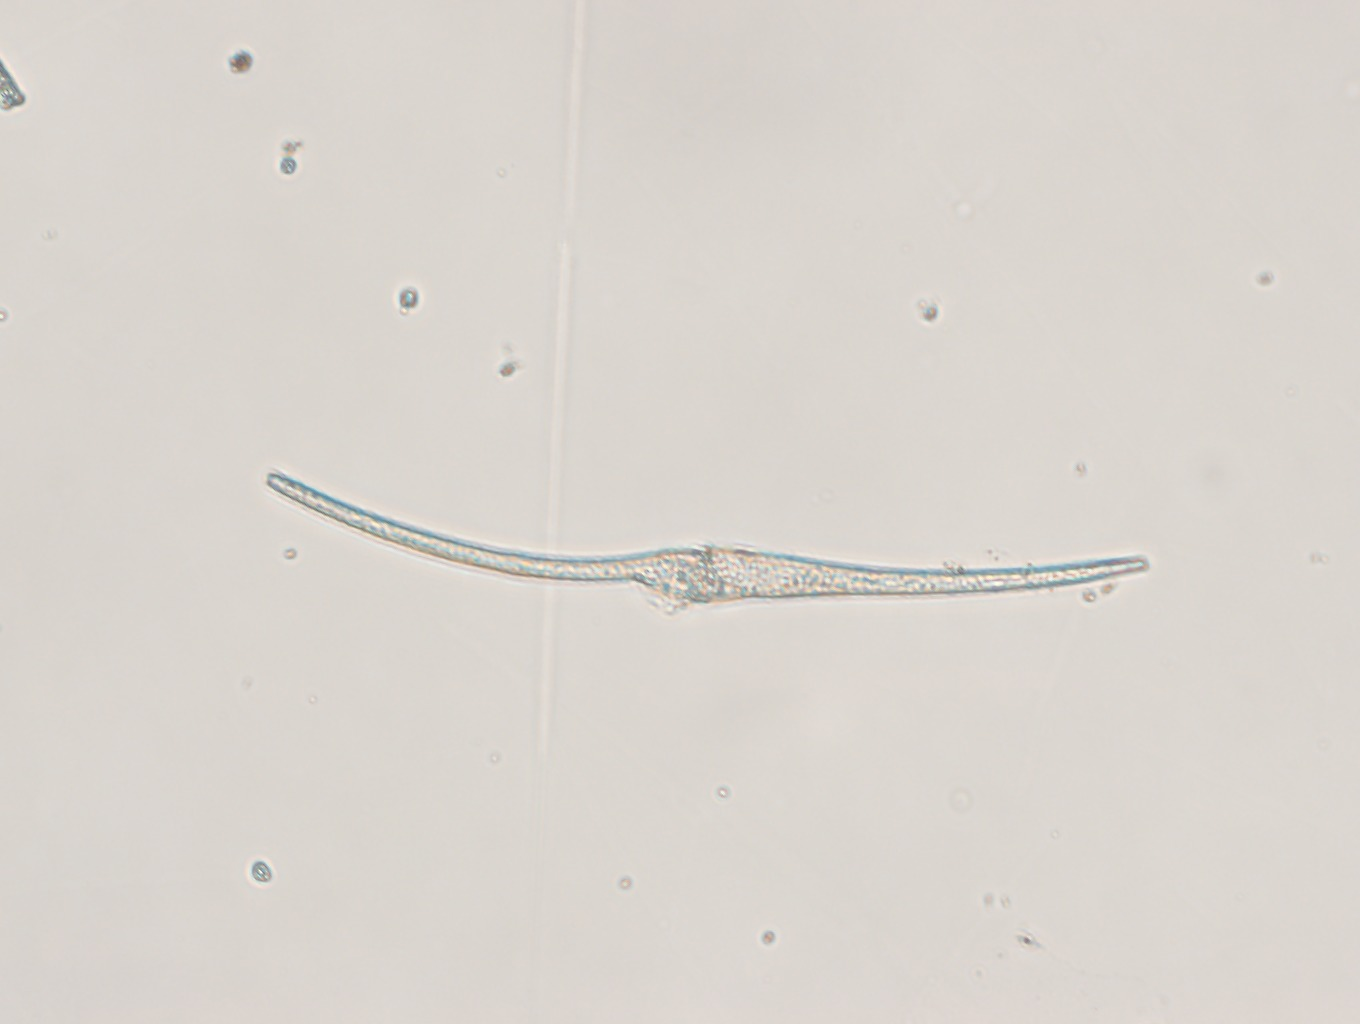ceratium fusus: (264, 468, 1173, 618)
